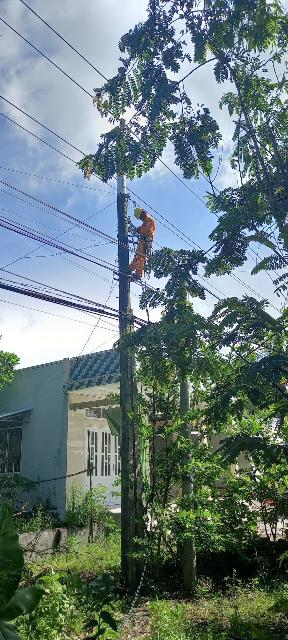harness: (134, 233, 164, 248)
helmet: (132, 203, 147, 218)
shoes: (132, 269, 144, 287), (116, 265, 136, 274)
